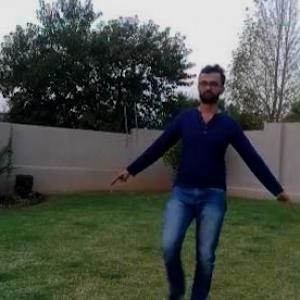land: (92, 63, 292, 299)
